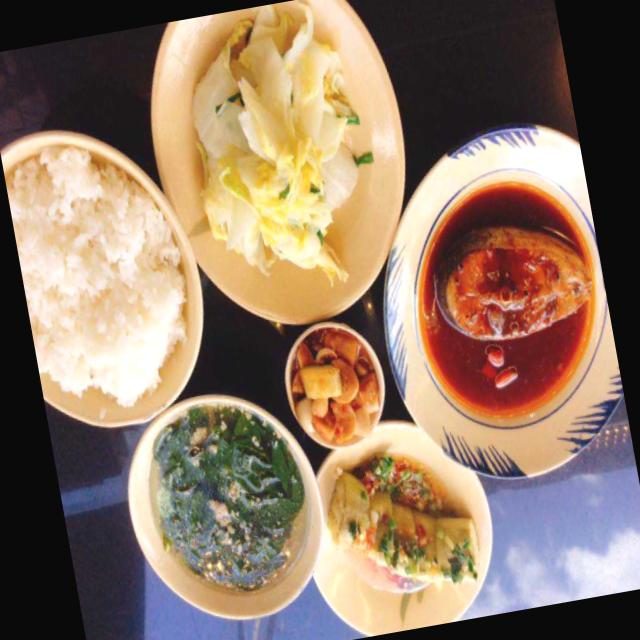bap cai xao: (192, 5, 372, 285)
ca kho: (435, 225, 592, 340)
canh cai: (151, 406, 308, 592)
com: (6, 148, 186, 406)
